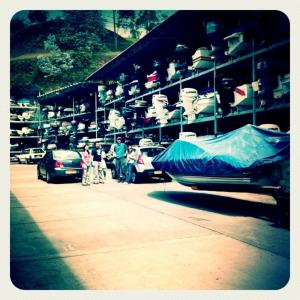Vehicle-registration-plate: (66, 171, 77, 175)
